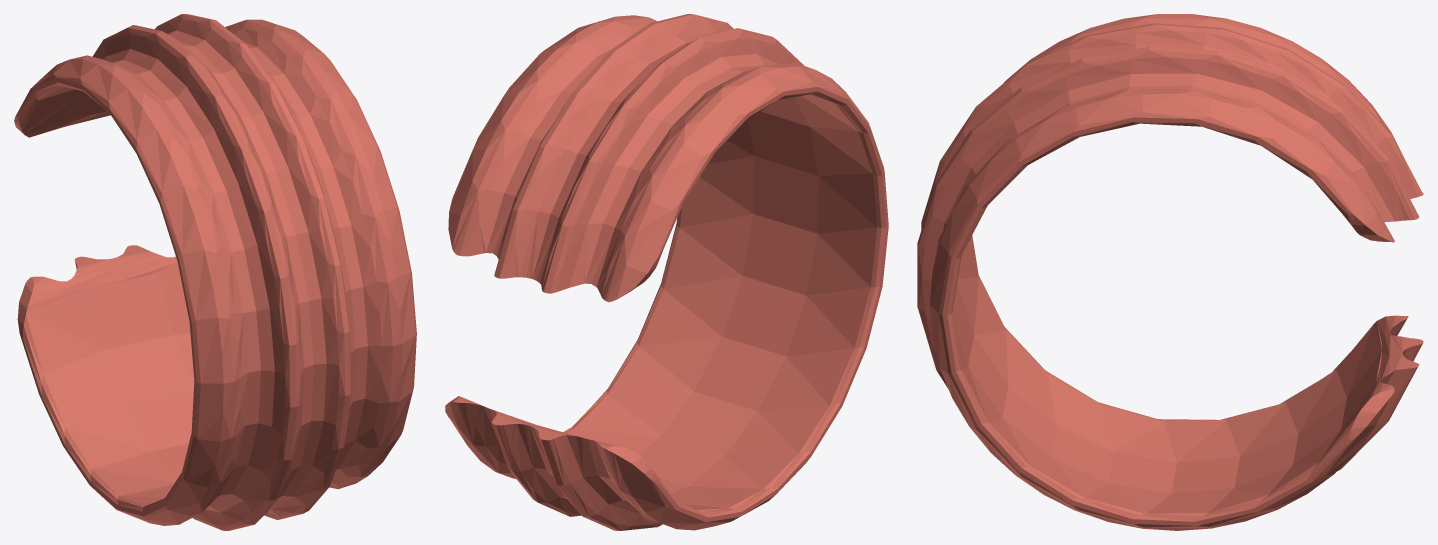
Rendered from braceletp3.obj.
The picture shows the model from 3 angles, left to right: view 1: azimuth 30°, elevation 25°; view 2: azimuth 150°, elevation 25°; view 3: azimuth 270°, elevation 25°; orthographic projection.
Parts seen in each view (by area): view 1: braceletp; view 2: braceletp; view 3: braceletp.
Boxes of the visible parts, box(x1,y1,x2,y2) form: braceletp: box(14, 14, 416, 530); braceletp: box(445, 14, 888, 530); braceletp: box(917, 14, 1423, 530).
Size of the model in its own units: 39.56 by 73.43 by 71.83.
